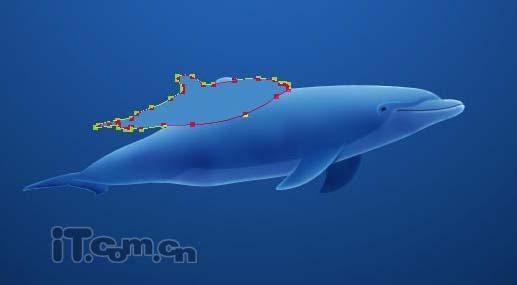fish: (22, 75, 465, 196)
